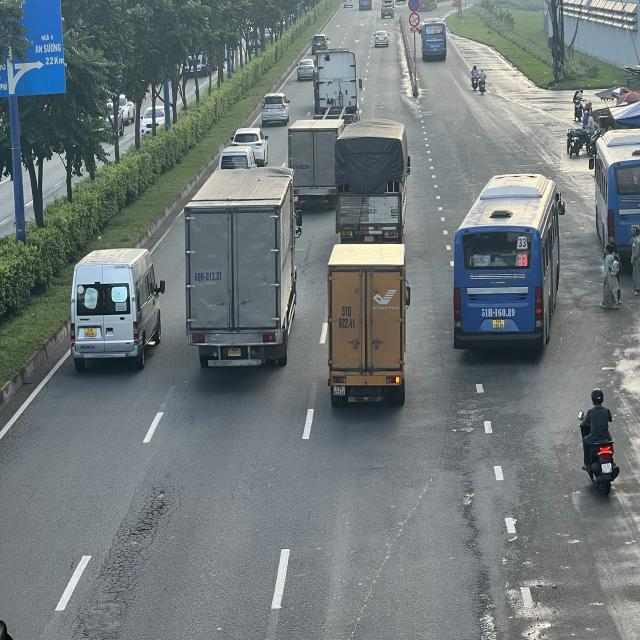car: (263, 92, 291, 126)
coach: (457, 173, 567, 355), (596, 131, 640, 275), (419, 18, 448, 62)
container: (317, 48, 363, 120)
truck: (180, 172, 297, 374), (325, 247, 408, 410), (334, 124, 409, 246), (286, 120, 336, 209)
van: (72, 246, 167, 371)
